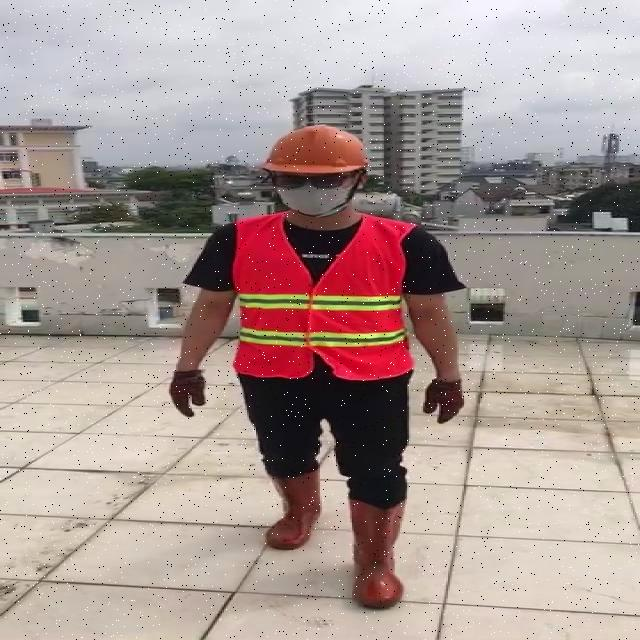Hard_hat: (259, 124, 376, 185)
Vest: (233, 212, 414, 379)
